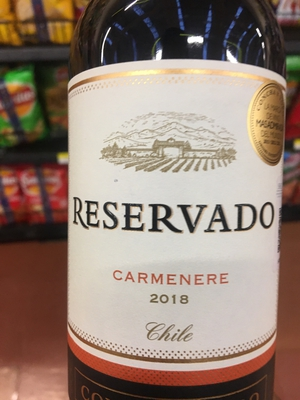reservado carmenere: (60, 15, 285, 400)
